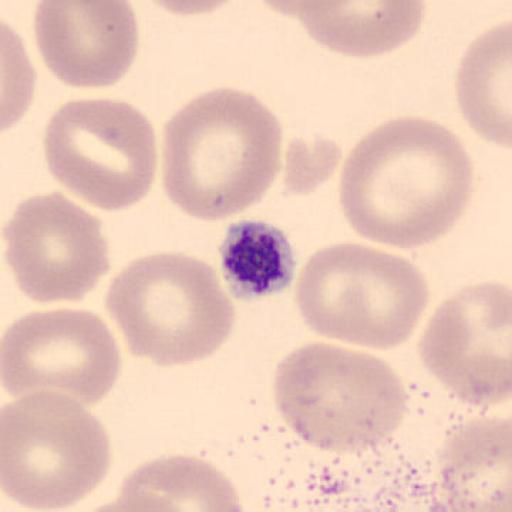Platelet: (218, 217, 298, 302)
RBC: (271, 339, 409, 478), (338, 115, 476, 250), (160, 85, 284, 224), (106, 250, 237, 369), (293, 239, 431, 351), (42, 95, 159, 214), (1, 389, 114, 511), (0, 190, 112, 306), (416, 279, 512, 411), (2, 306, 123, 409), (33, 0, 141, 90), (432, 411, 512, 511), (295, 0, 427, 59), (116, 453, 248, 512), (453, 19, 512, 149), (0, 18, 38, 136), (282, 132, 342, 198), (139, 0, 244, 18), (249, 1, 354, 19), (66, 498, 184, 512)
WBC: (203, 341, 512, 510)
